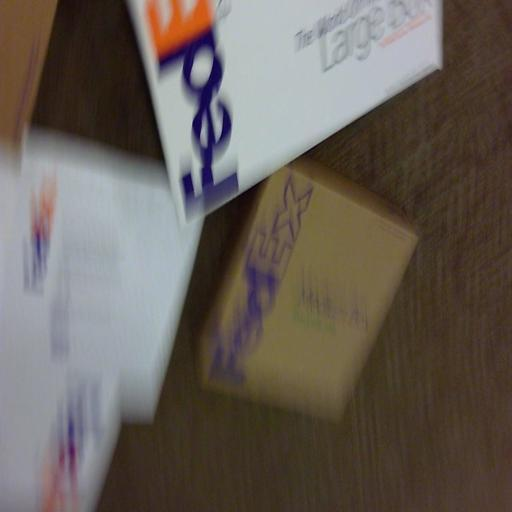Amazon: (129, 0, 449, 180), (212, 180, 393, 418)
